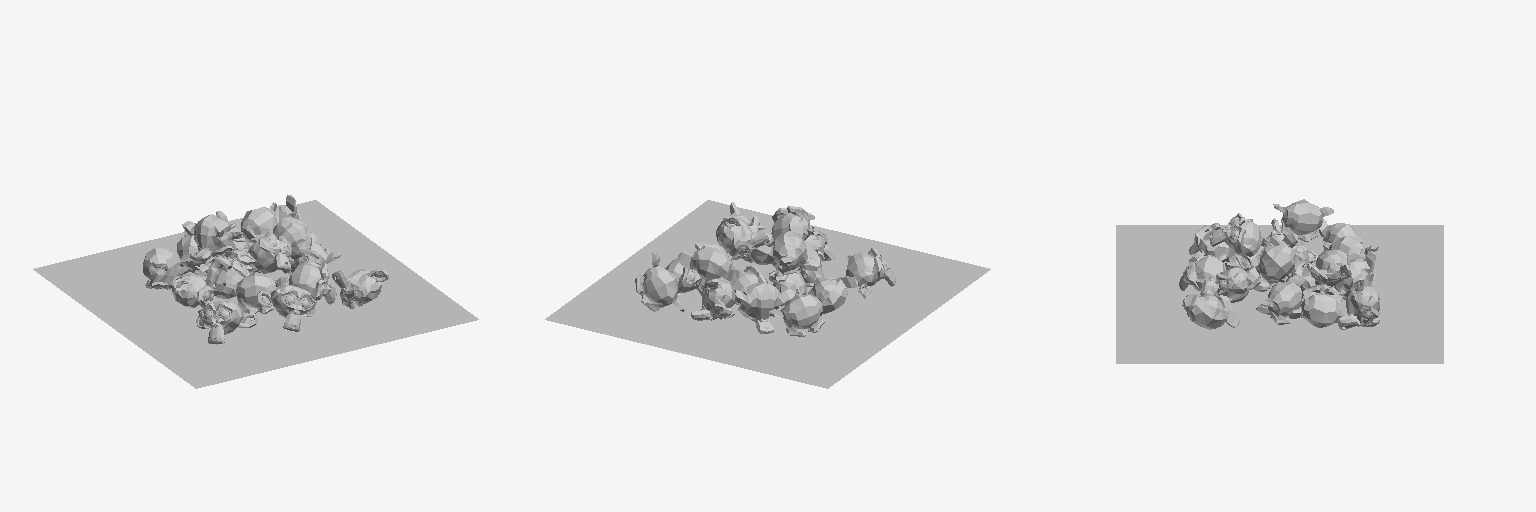
File: MONK.obj
The picture shows the model from 3 angles: view 1: azimuth 30°, elevation 25°; view 2: azimuth 150°, elevation 25°; view 3: azimuth 270°, elevation 25°; orthographic projection.
Visible parts, largest first — view 1: Plane; view 2: Plane; view 3: Plane.
Part boxes in pixels (bbox=[...]): Plane: bbox=[33, 195, 478, 388]; Plane: bbox=[545, 200, 990, 388]; Plane: bbox=[1116, 199, 1443, 363].
Size of the model in its own units: 13.45 by 3.52 by 13.45.